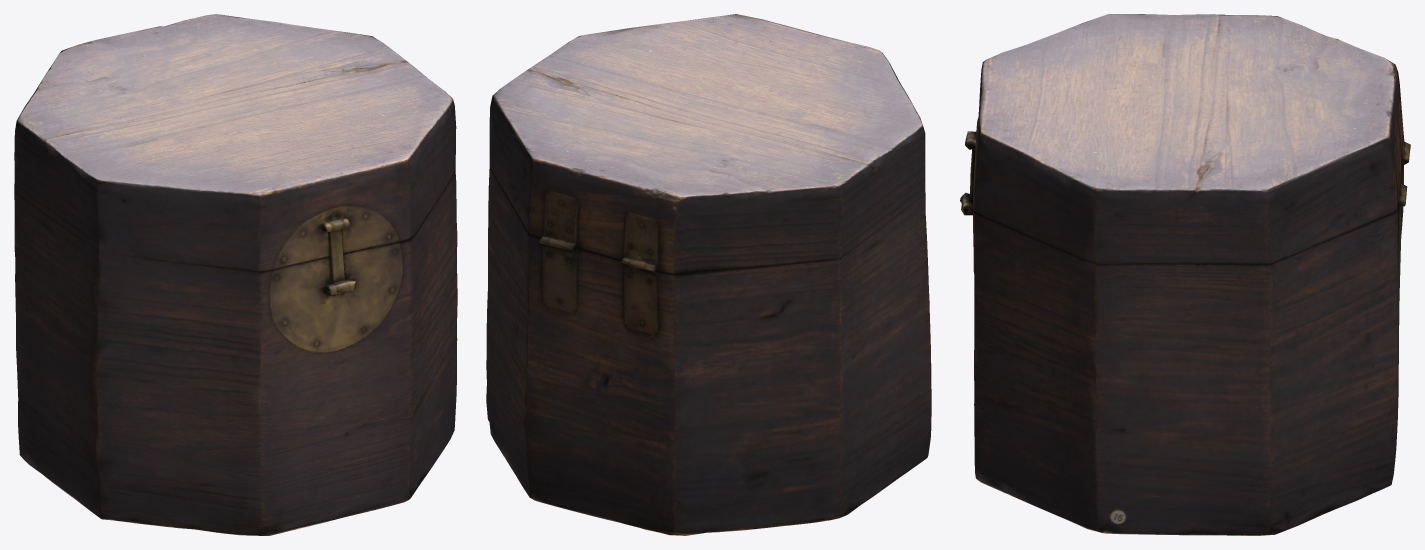
The model's file is SM_Wooden_Box.fbx.
3 views of the same model, side by side, from view 1: azimuth 30°, elevation 25°; view 2: azimuth 150°, elevation 25°; view 3: azimuth 270°, elevation 25° (orthographic). The views are drawn at different scales.
Visible parts, largest first — view 1: KCDF_2022_prop_Wooden_Box_Mesh; view 2: KCDF_2022_prop_Wooden_Box_Mesh; view 3: KCDF_2022_prop_Wooden_Box_Mesh.
Boxes of the visible parts, x1,y1,x2,y2 form: KCDF_2022_prop_Wooden_Box_Mesh: [14, 14, 457, 535]; KCDF_2022_prop_Wooden_Box_Mesh: [486, 14, 931, 535]; KCDF_2022_prop_Wooden_Box_Mesh: [960, 14, 1410, 535].
Size of the model in its own units: 52.72 by 47.78 by 55.2.
Materials: 1 (1 with a texture image).
